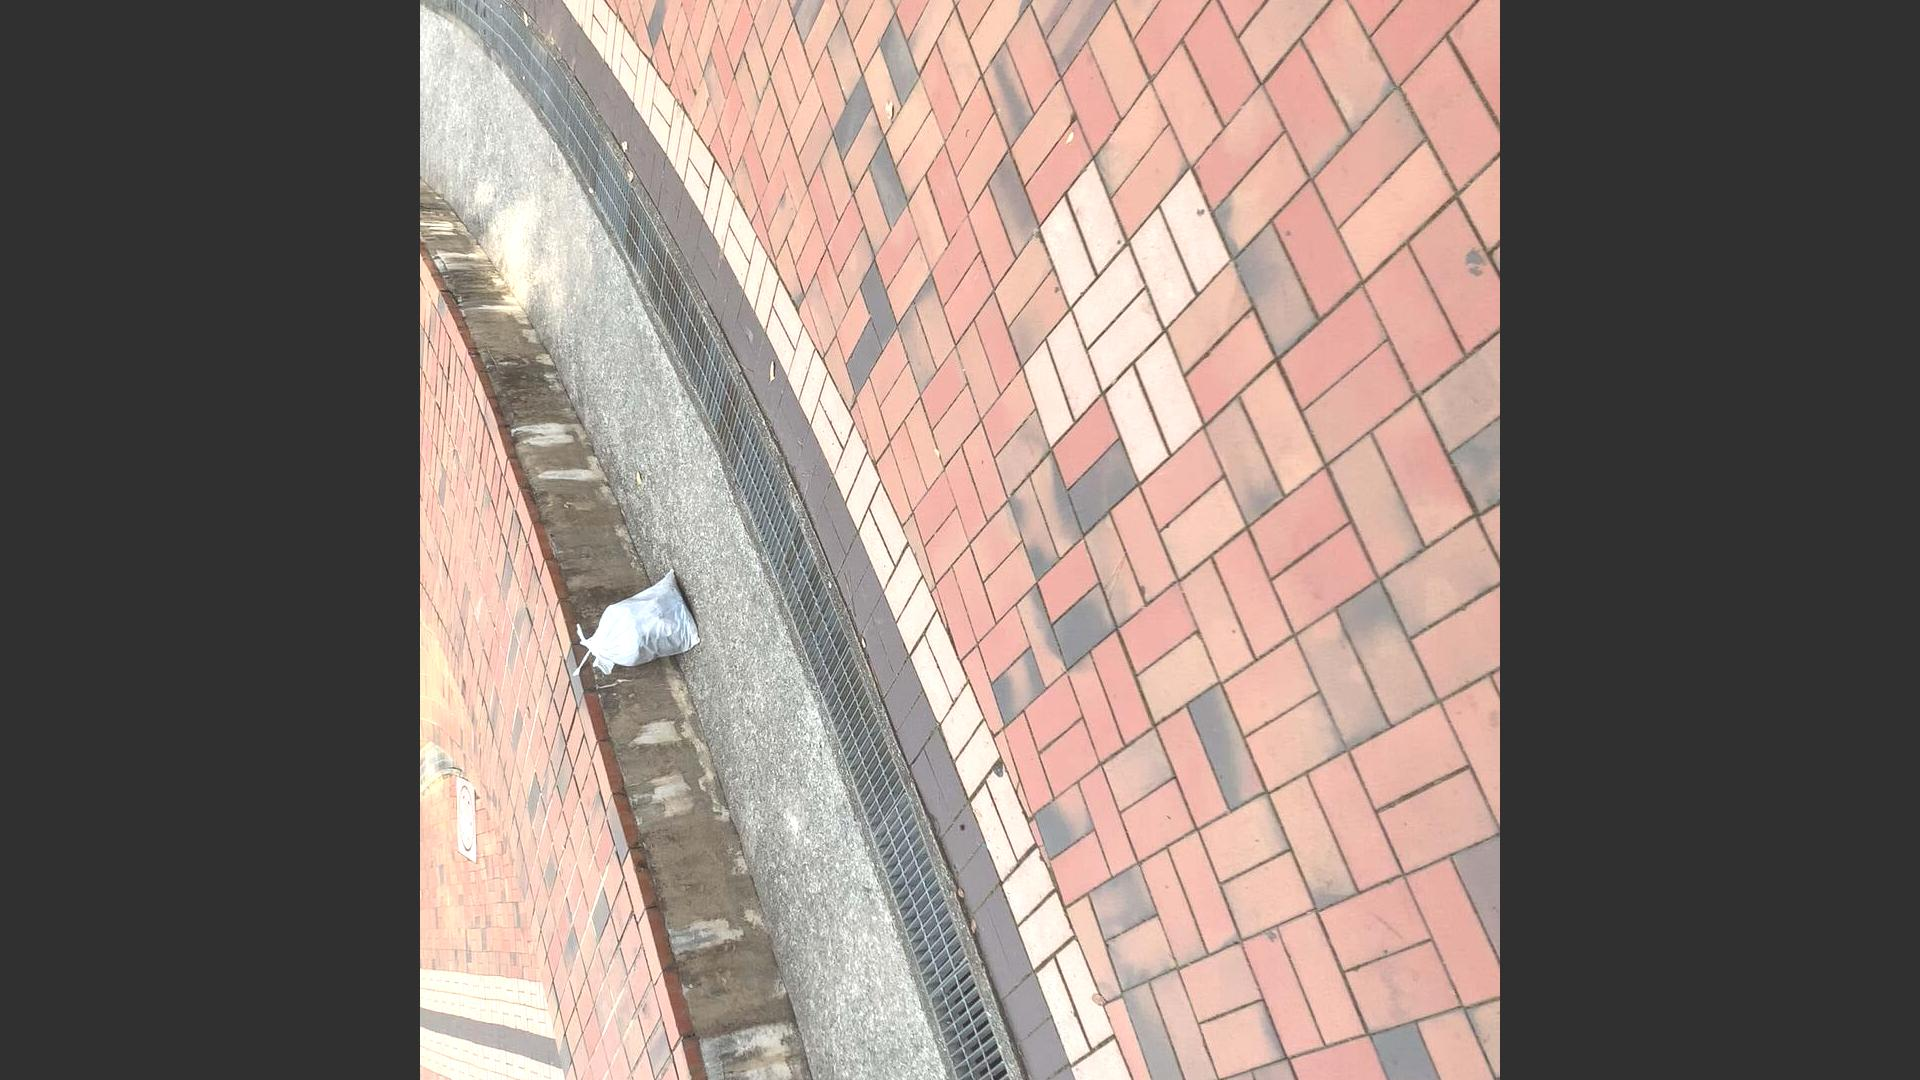white_bag: (563, 564, 705, 686)
